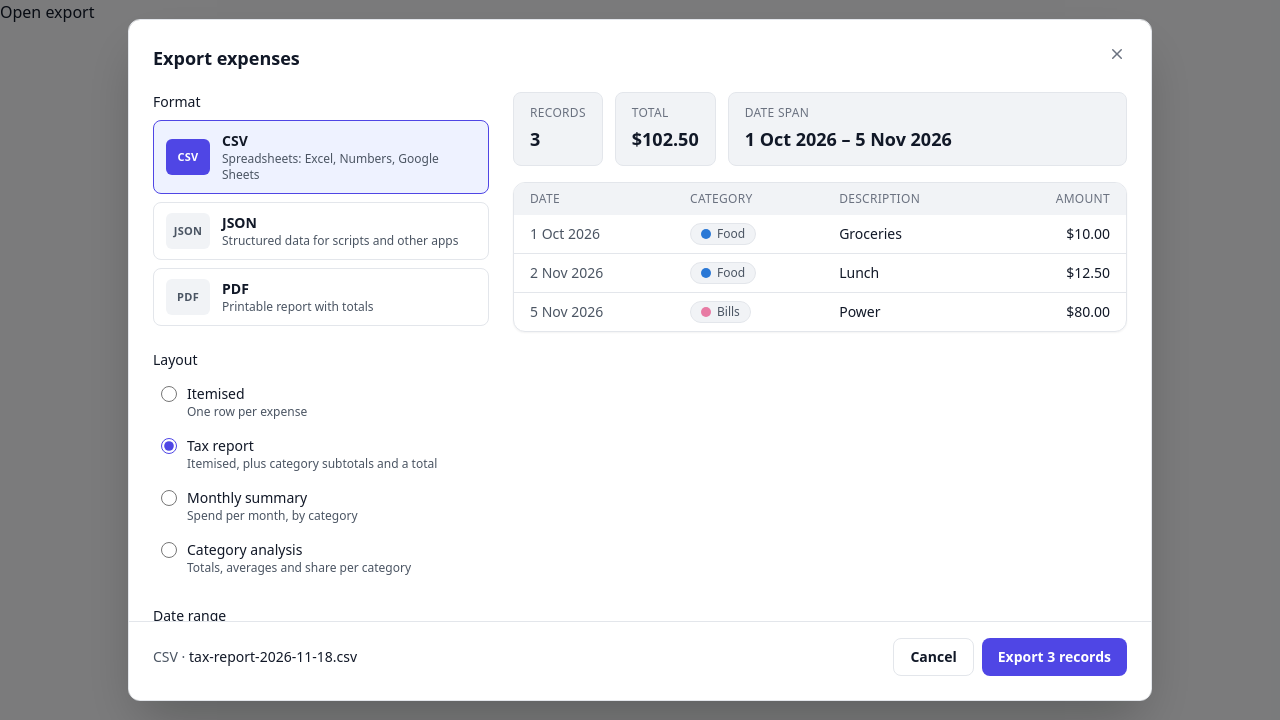
Export dialog › offers CSV layouts and names the file after the chosen one
Earlier steps of the test are not shown.
Click the button "Export 3 records".
click(1054, 657)  # box [982,638,1127,676]
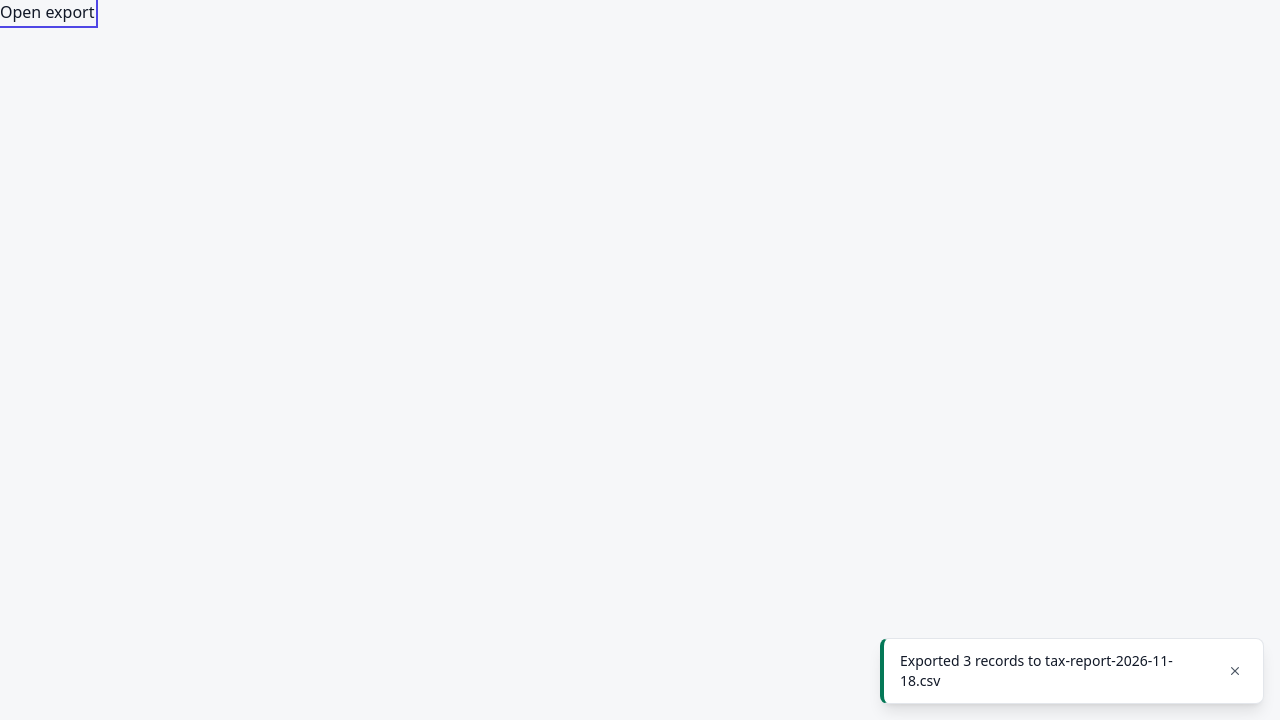
Expected: the text "Exported 3 records to tax-report-2026-11-18.csv" is shown, [900,651,1211,691]
